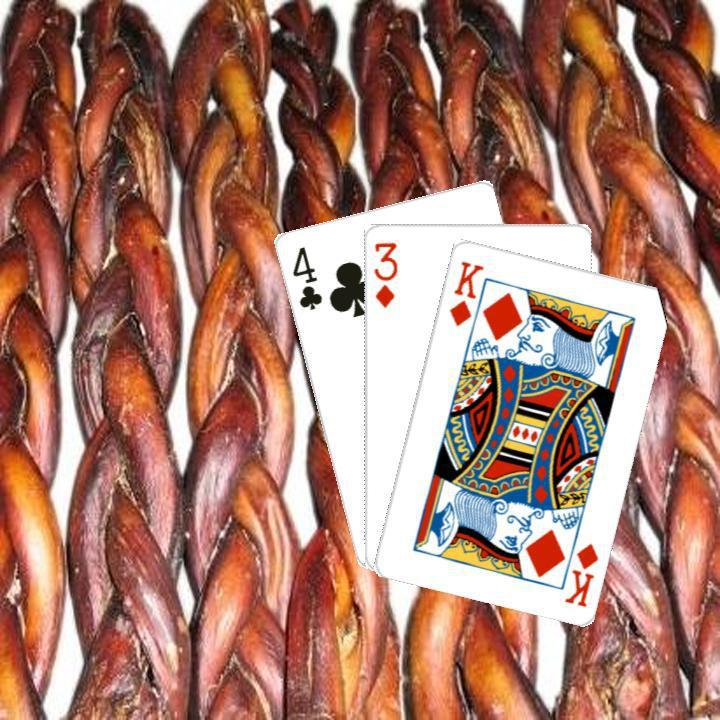3: (369, 238, 399, 310)
4: (287, 241, 324, 312)
K: (444, 256, 485, 328), (560, 538, 601, 609)
